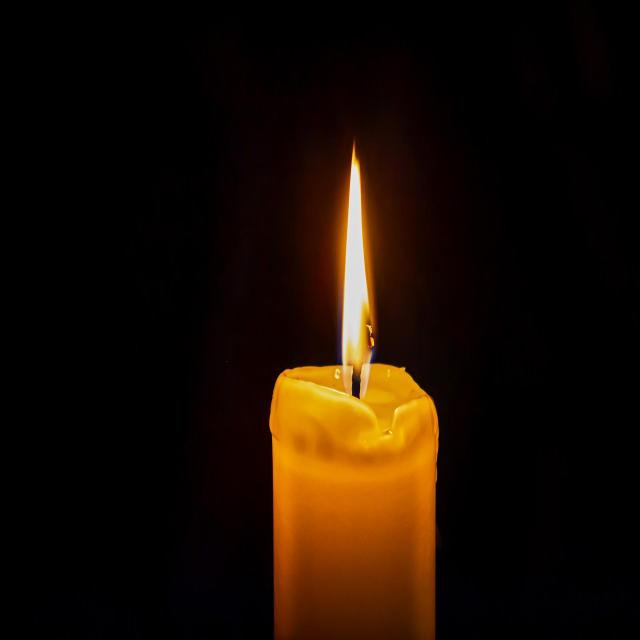Fire_Save: (269, 137, 439, 638)
